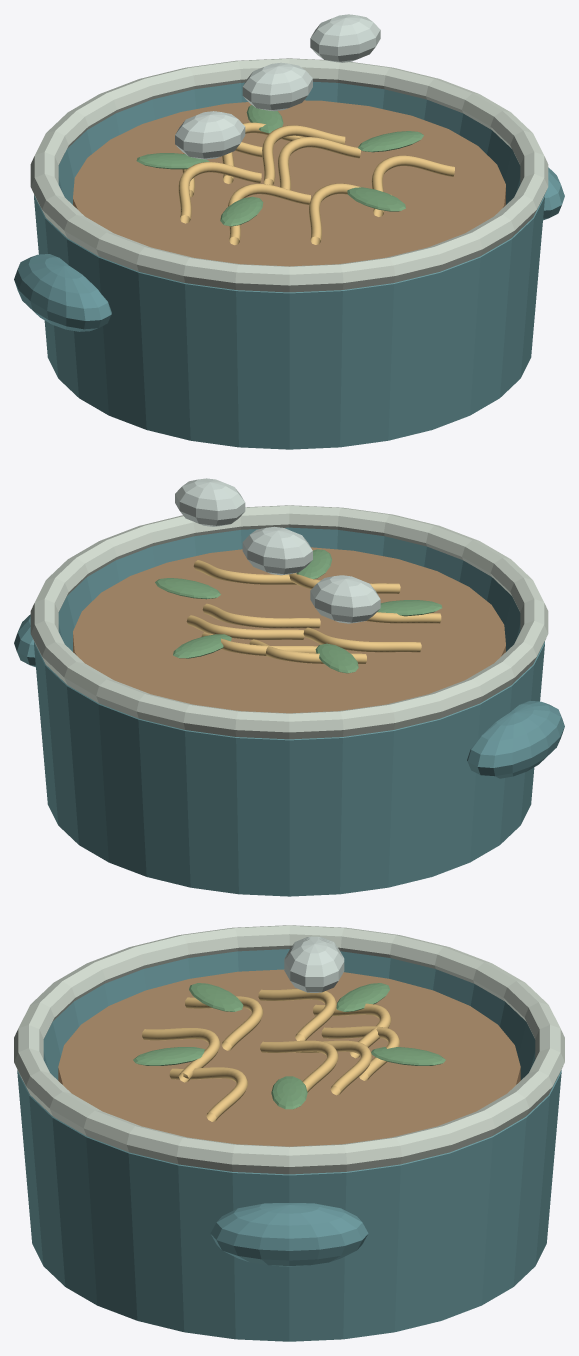
File: boiling_noodles.glb
3 renders of one model, top to bottom at view 1: azimuth 30°, elevation 25°; view 2: azimuth 150°, elevation 25°; view 3: azimuth 270°, elevation 25°, orthographic. The views are drawn at different scales.
Visible parts, largest first — view 1: blue_enamel_pot, simmering_broth, pot_white_lip, side_handle_-1, warm_steam_puff_2, warm_steam_puff_0, warm_steam_puff_1, wheat_noodle_loop_4, wheat_noodle_loop_0, wheat_noodle_loop_1, wheat_noodle_loop_7, wheat_noodle_loop_5 (+7 smaller); view 2: blue_enamel_pot, simmering_broth, pot_white_lip, side_handle_-1, warm_steam_puff_0, warm_steam_puff_2, warm_steam_puff_1, wheat_noodle_loop_0, wheat_noodle_loop_1, wheat_noodle_loop_4, wheat_noodle_loop_7, soft_boiled_leaf_0 (+9 smaller); view 3: blue_enamel_pot, simmering_broth, pot_white_lip, side_handle_1, warm_steam_puff_2, wheat_noodle_loop_6, wheat_noodle_loop_7, wheat_noodle_loop_4, wheat_noodle_loop_0, wheat_noodle_loop_2, wheat_noodle_loop_1, wheat_noodle_loop_5 (+6 smaller).
Boxes of the visible parts, box(x1,y1,x2,y2) form: blue_enamel_pot: box(34, 82, 544, 449); simmering_broth: box(73, 100, 505, 266); pot_white_lip: box(30, 58, 548, 292); side_handle_-1: box(14, 254, 111, 331); warm_steam_puff_2: box(310, 14, 380, 62); warm_steam_puff_0: box(175, 111, 245, 159); warm_steam_puff_1: box(242, 62, 312, 111); wheat_noodle_loop_4: box(178, 162, 261, 223); wheat_noodle_loop_0: box(278, 137, 360, 190); wheat_noodle_loop_1: box(262, 125, 345, 185); wheat_noodle_loop_7: box(371, 155, 454, 216); wheat_noodle_loop_5: box(228, 183, 310, 245); blue_enamel_pot: box(34, 527, 544, 896); simmering_broth: box(73, 547, 505, 713); pot_white_lip: box(30, 505, 548, 739); side_handle_-1: box(467, 701, 564, 778); warm_steam_puff_0: box(310, 575, 380, 623); warm_steam_puff_2: box(175, 478, 245, 526); warm_steam_puff_1: box(242, 526, 312, 575); wheat_noodle_loop_0: box(202, 603, 320, 628); wheat_noodle_loop_1: box(186, 615, 304, 639); wheat_noodle_loop_4: box(303, 627, 421, 652); wheat_noodle_loop_7: box(193, 560, 296, 584); soft_boiled_leaf_0: box(155, 578, 220, 599); blue_enamel_pot: box(17, 949, 561, 1341); simmering_broth: box(58, 969, 520, 1146); pot_white_lip: box(14, 925, 564, 1174); side_handle_1: box(210, 1203, 368, 1266); warm_steam_puff_2: box(284, 939, 344, 992); wheat_noodle_loop_6: box(142, 1028, 220, 1082); wheat_noodle_loop_7: box(169, 1067, 247, 1121); wheat_noodle_loop_4: box(258, 989, 336, 1040); wheat_noodle_loop_0: box(260, 1040, 338, 1092); wheat_noodle_loop_2: box(321, 1026, 399, 1080); wheat_noodle_loop_1: box(295, 1040, 372, 1095); wheat_noodle_loop_5: box(185, 996, 263, 1050).
Bounding box in the file's own units: 0.766 × 0.441 × 0.6624.
